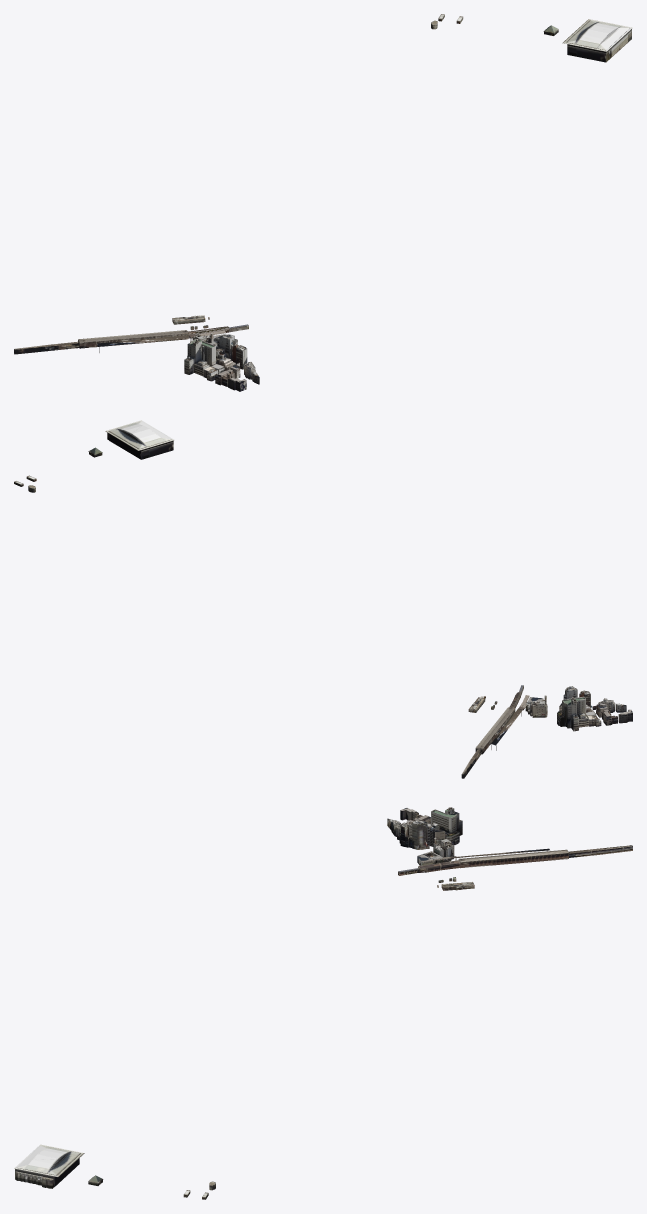
File: 53394516_bldg_lod2.glb
The picture shows the model from 3 angles, top to bottom: view 1: azimuth 90°, elevation 25°; view 2: azimuth 150°, elevation 25°; view 3: azimuth 270°, elevation 25°; orthographic projection. The views are drawn at different scales.
Visible parts, largest first — view 1: 53394516_bldg_lod2; view 2: 53394516_bldg_lod2; view 3: 53394516_bldg_lod2.
Boxes of the visible parts, <box> form: 53394516_bldg_lod2: <box>14,14,632,391</box>; 53394516_bldg_lod2: <box>14,420,632,778</box>; 53394516_bldg_lod2: <box>14,807,632,1199</box>.
Size of the model in its own units: 1038 by 45.85 by 716.
Materials: 1 (1 with a texture image).
